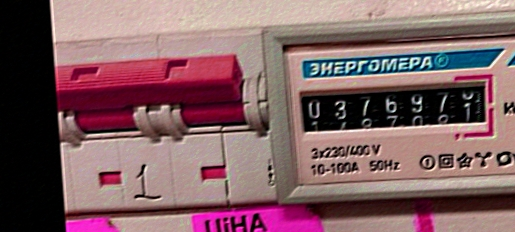0: (305, 98, 323, 120)
1: (462, 101, 474, 123)
3: (332, 98, 348, 122)
6: (384, 92, 398, 114)
7: (358, 93, 373, 118), (435, 90, 450, 114)
9: (409, 92, 424, 114)
screen: (292, 71, 500, 154)
